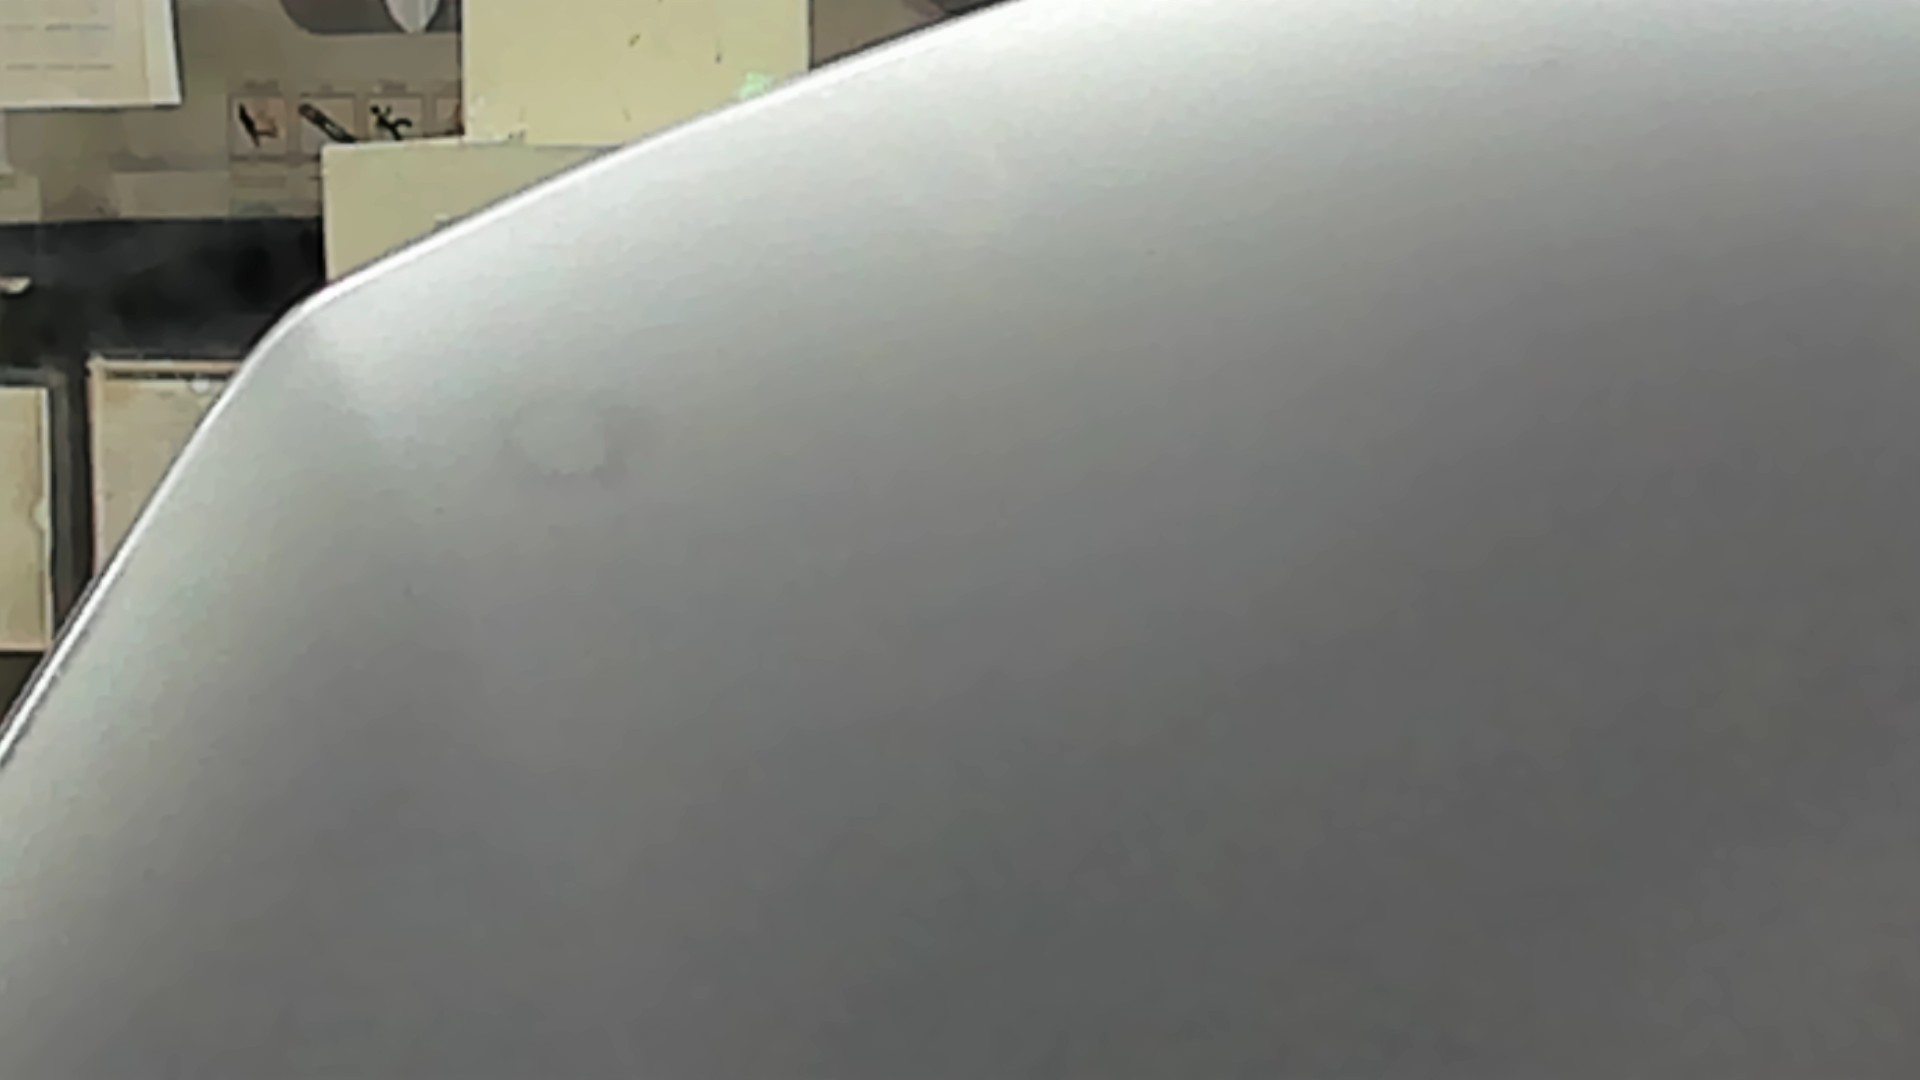capo: (502, 229, 1920, 1080)
